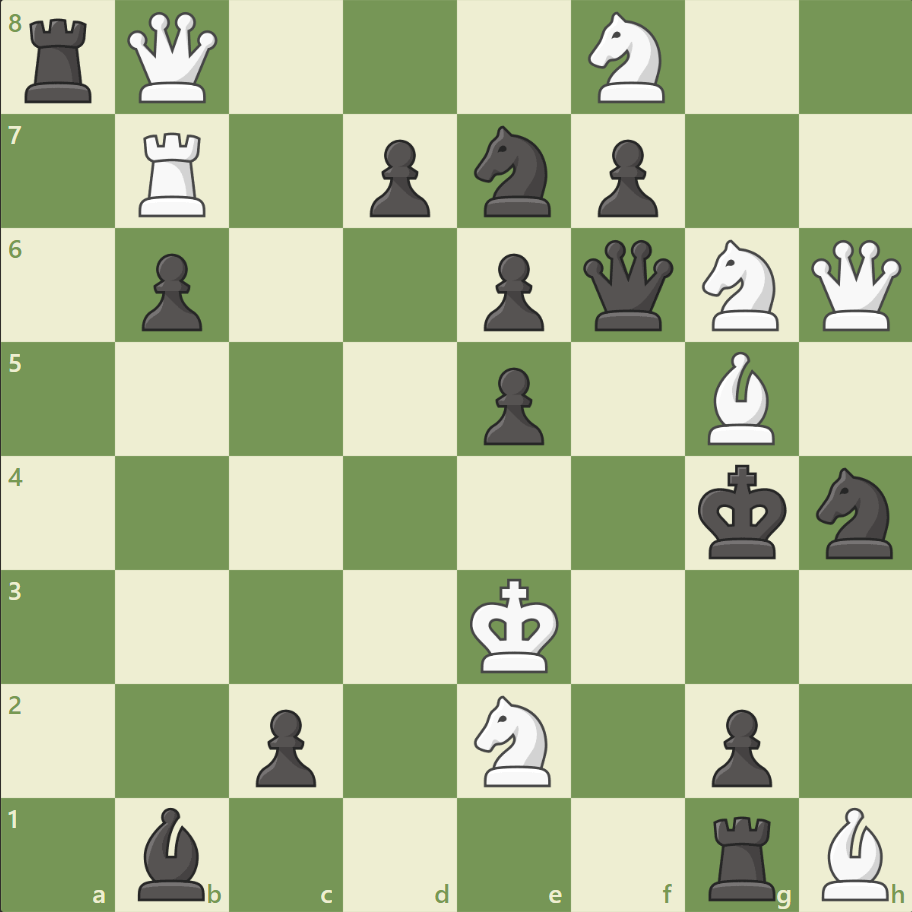B: (812, 801, 896, 904), (698, 347, 782, 449)
K: (465, 571, 565, 679)
N: (579, 7, 676, 110), (692, 234, 789, 337), (465, 688, 562, 791)
Q: (124, 9, 223, 108), (805, 236, 904, 335)
R: (133, 125, 215, 222)
b: (131, 801, 215, 904)
k: (692, 458, 792, 566)
n: (806, 461, 903, 564), (465, 121, 562, 223)
p: (133, 246, 208, 337), (474, 246, 549, 337), (474, 359, 549, 450), (247, 700, 322, 791), (701, 700, 776, 791), (361, 132, 435, 223), (588, 132, 662, 223)
q: (578, 236, 677, 335)
r: (700, 806, 783, 904), (19, 12, 102, 109)
